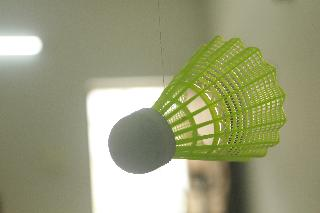shuttlecock: (108, 34, 286, 173)
